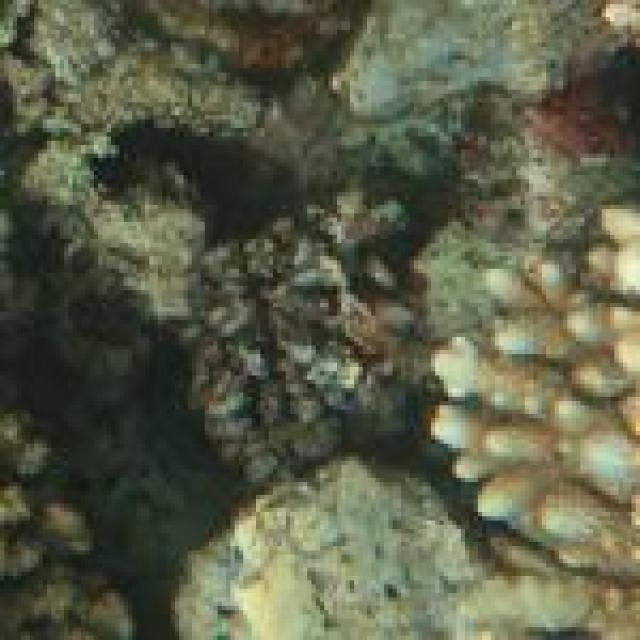Healthy Coral: (439, 182, 640, 599)
